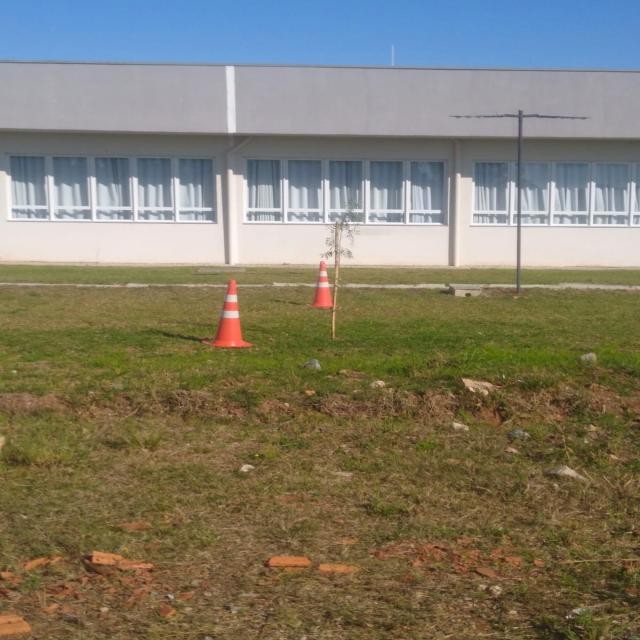cone: (199, 278, 256, 350), (307, 260, 341, 308)
